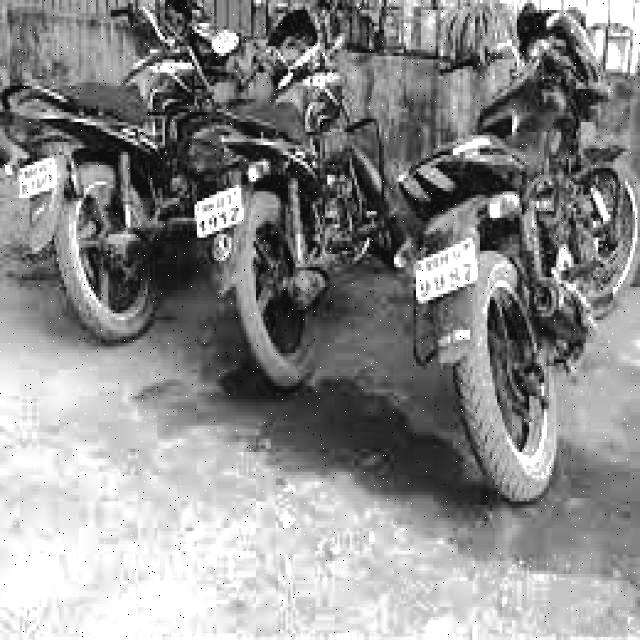Bike: (399, 4, 640, 500), (182, 1, 394, 437), (2, 12, 175, 362)
